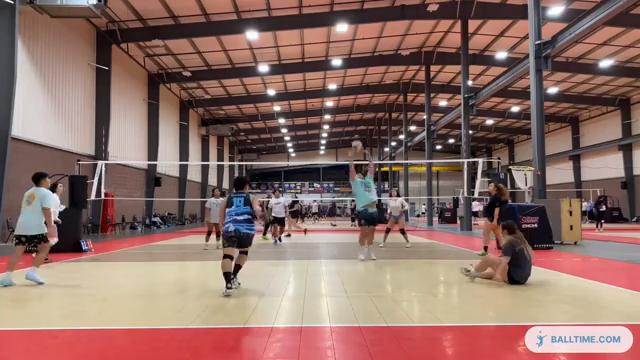Player: (0, 172, 57, 286), (219, 176, 260, 295), (461, 220, 531, 284), (478, 182, 508, 255), (380, 189, 410, 247), (204, 188, 222, 249), (268, 189, 285, 244), (285, 194, 306, 236), (49, 182, 65, 225), (49, 182, 65, 223), (260, 193, 271, 239)
Set: (339, 149, 381, 261)
ball: (351, 140, 364, 153)
